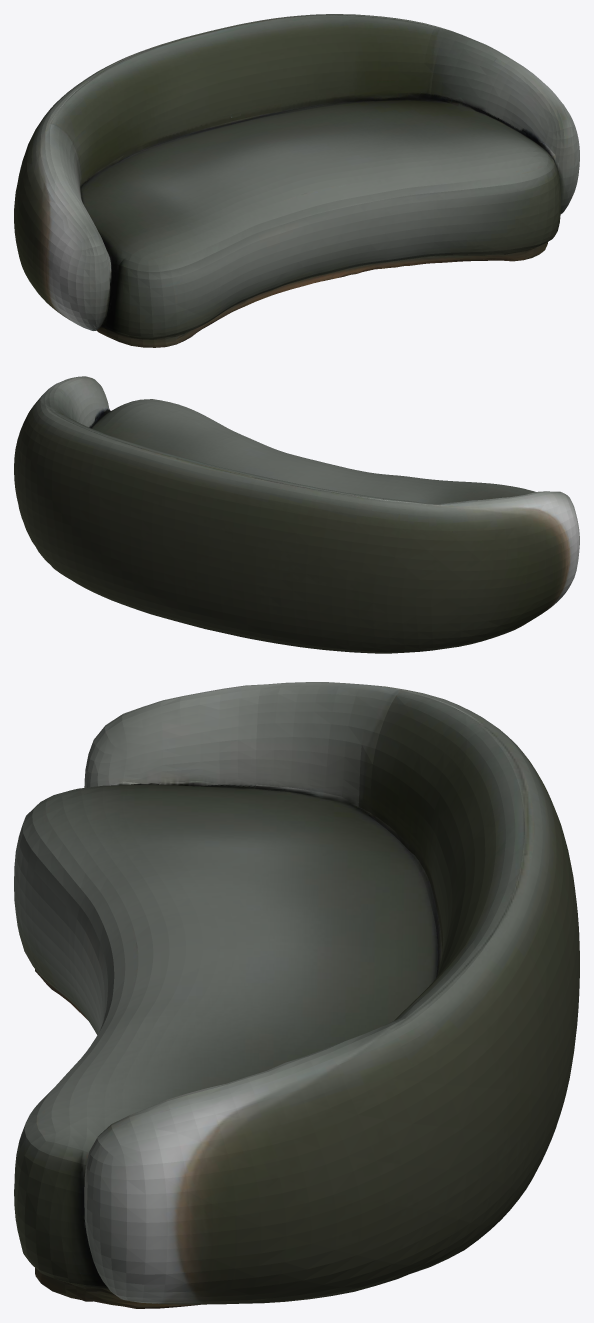
3 views of the same model, one above another, from view 1: azimuth 30°, elevation 25°; view 2: azimuth 150°, elevation 25°; view 3: azimuth 270°, elevation 25° (orthographic). The views are drawn at different scales.
Visible parts, largest first — view 1: tripo_node_8c87a4f9-e218-4f54-ad77-3b0cedde498b; view 2: tripo_node_8c87a4f9-e218-4f54-ad77-3b0cedde498b; view 3: tripo_node_8c87a4f9-e218-4f54-ad77-3b0cedde498b.
Part boxes in pixels (x1=…): tripo_node_8c87a4f9-e218-4f54-ad77-3b0cedde498b: x1=14, y1=14, x2=579, y2=347; tripo_node_8c87a4f9-e218-4f54-ad77-3b0cedde498b: x1=14, y1=376, x2=579, y2=653; tripo_node_8c87a4f9-e218-4f54-ad77-3b0cedde498b: x1=14, y1=682, x2=579, y2=1308.
Size of the model in its own units: 3.35 by 1.03 by 1.79.
Materials: 1 (1 with a texture image).
